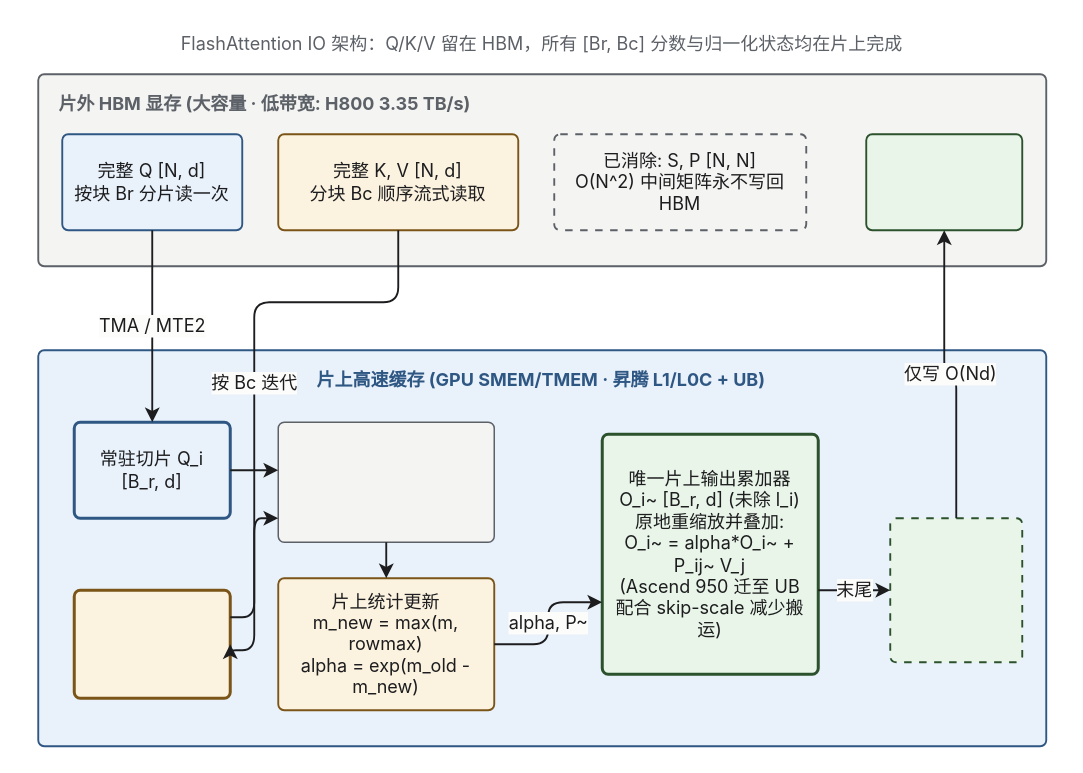
Image size: 1083x773. Some labels were removed from this diagram. Here are the shapes that lost their labels. From the top down, the centre of each, then its label:
the point at 944,182: 最终 O [N, d] 仅循环末尾写回一次
the point at 385,481: 局部矩阵乘 S_ij = Q_i K_j^T / sqrt(d) 仅占 [B_r, B_c] 用完即丢
the point at 956,590: 循环 Tc 块后 唯一一次除法 O_i = O_i~ / l_i
the point at 151,643: 当前瓦片 K_j, V_j [B_c, d] (双缓冲覆写)
